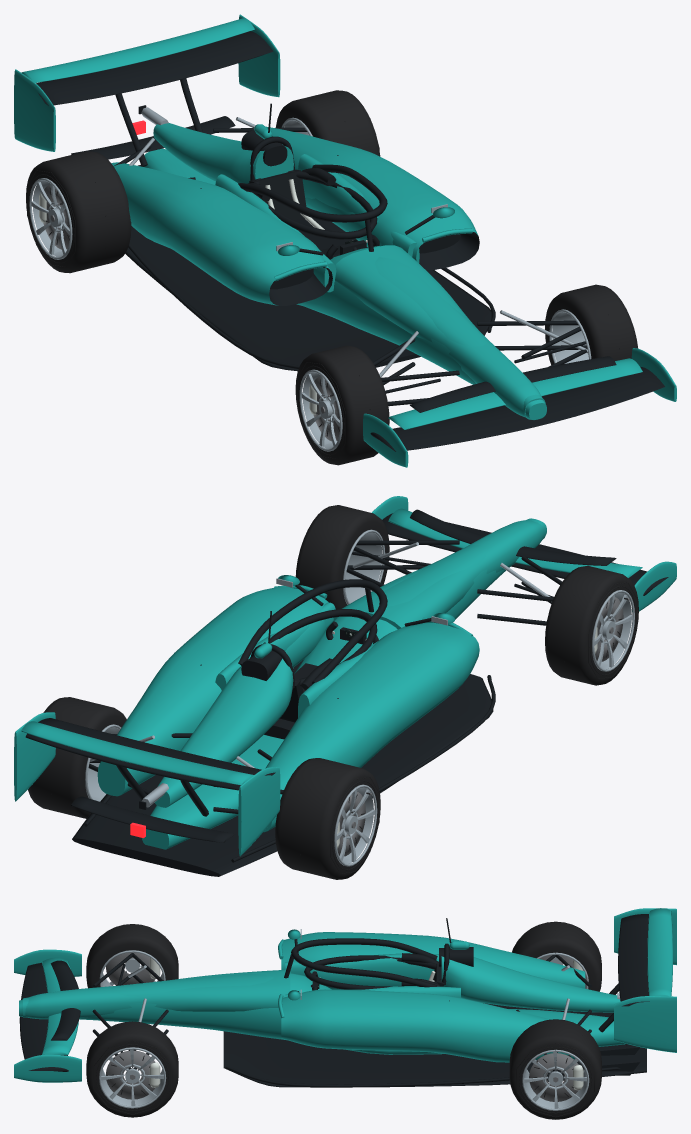
File: apex-lod0.glb
3 renders of one model, top to bottom at view 1: azimuth 30°, elevation 25°; view 2: azimuth 150°, elevation 25°; view 3: azimuth 270°, elevation 25°, orthographic. The views are drawn at different scales.
Visible parts, largest first — view 1: formula-keel_merged, contoured-floor_merged, profiled-tire_merged (×4), rim-barrel_merged (×3), pushrod_merged; view 2: formula-keel_merged, contoured-floor_merged, profiled-tire_merged (×4), rim-barrel_merged (×4), wheel-valve-cap_merged (×2), pushrod_merged; view 3: formula-keel_merged, contoured-floor_merged, profiled-tire_merged (×4), rim-barrel_merged (×3), wheel-valve-cap_merged (×3), pushrod_merged.
Part boxes in pixels (bbox=[...]): formula-keel_merged: bbox=[14, 14, 676, 467]; contoured-floor_merged: bbox=[36, 31, 664, 451]; profiled-tire_merged (×4): bbox=[26, 90, 638, 465]; rim-barrel_merged (×3): bbox=[29, 178, 591, 451]; pushrod_merged: bbox=[128, 107, 587, 377]; formula-keel_merged: bbox=[14, 496, 676, 856]; contoured-floor_merged: bbox=[25, 509, 668, 876]; profiled-tire_merged (×4): bbox=[28, 505, 638, 879]; rim-barrel_merged (×4): bbox=[85, 529, 634, 866]; wheel-valve-cap_merged (×2): bbox=[337, 597, 629, 856]; pushrod_merged: bbox=[90, 542, 551, 807]; formula-keel_merged: bbox=[14, 908, 676, 1082]; contoured-floor_merged: bbox=[19, 914, 649, 1087]; profiled-tire_merged (×4): bbox=[86, 921, 601, 1119]; rim-barrel_merged (×3): bbox=[99, 950, 589, 1110]; wheel-valve-cap_merged (×3): bbox=[106, 952, 578, 1101]; pushrod_merged: bbox=[127, 929, 620, 1071].
Size of the model in its own units: 2.27 by 1.24 by 5.17.
Materials: 8 (1 with a texture image).
